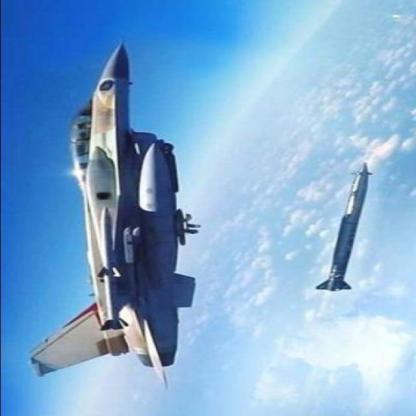MIL_TBM: (314, 163, 374, 290)
